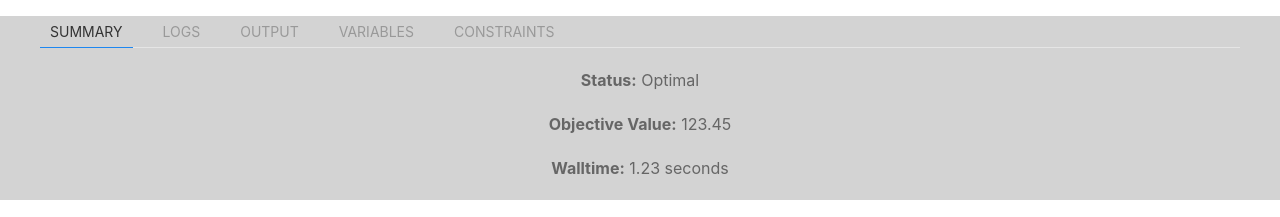
Test: OutputUi Component › switches to logs tab and displays log content
What coordinates should you click on to do the following:
click the link "Logs"
I would click on:
 (181, 32)
Its box is [162,23,200,40].
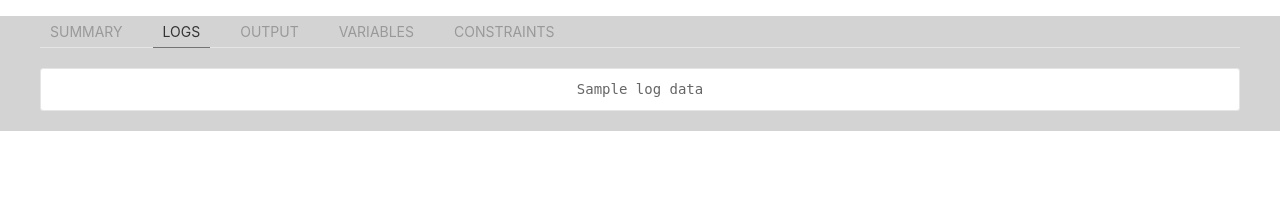
expect the text "Sample log data" is shown: met, box [40,68,1240,111]
